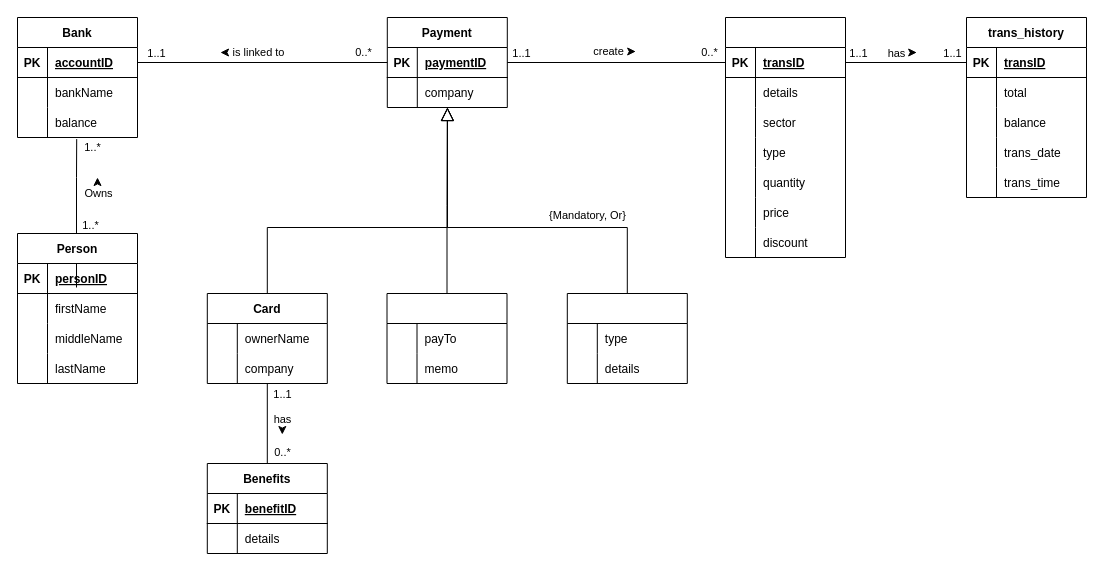
The diagram is 1104 pixels wide and 571 high, and some of its shapes have lost their labels. Each missing label, with the box of its shape:
Cheque: (386, 292, 507, 384)
trans_details: (724, 16, 846, 258)
Wired: (566, 292, 687, 384)
